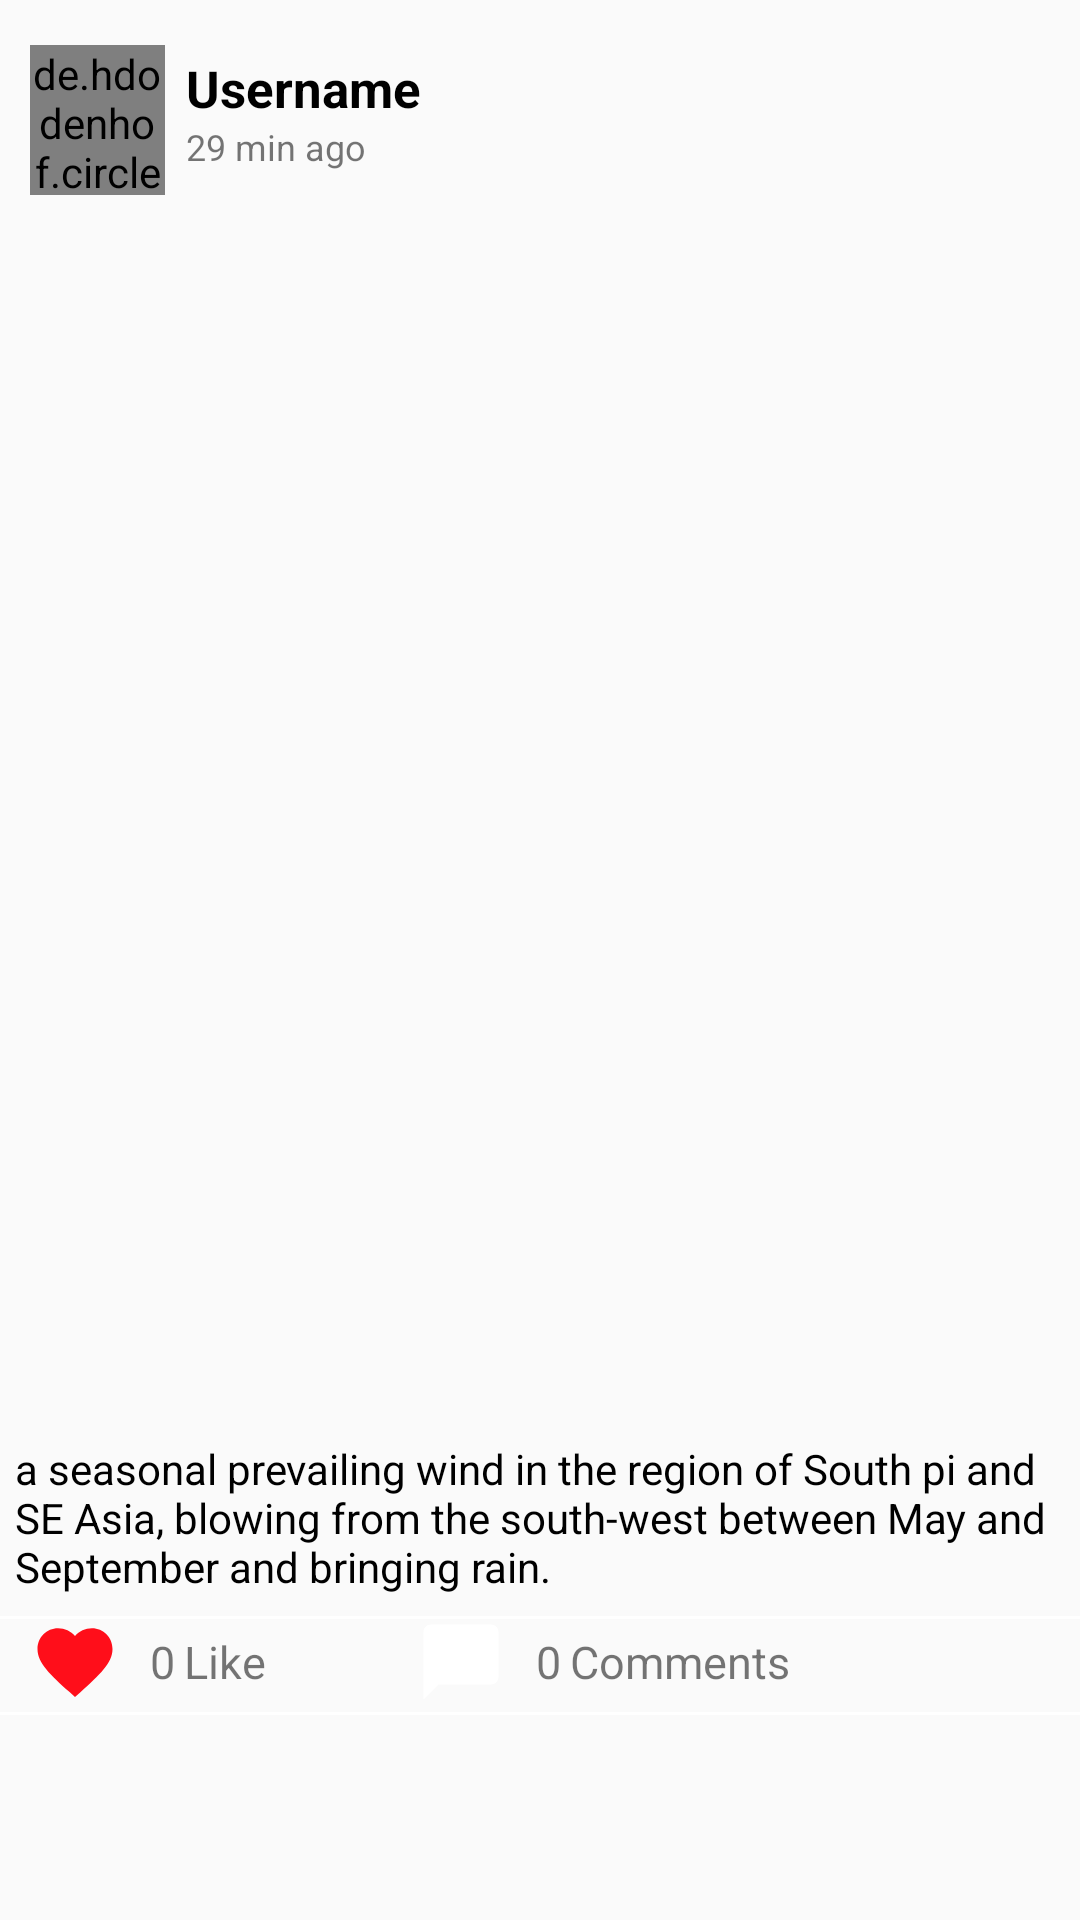

Locate icon controls on the screen. Image size 1080x1920, boxes as BBox(x1, y1, x2, y2).
heart: BBox(37, 1628, 113, 1697)
